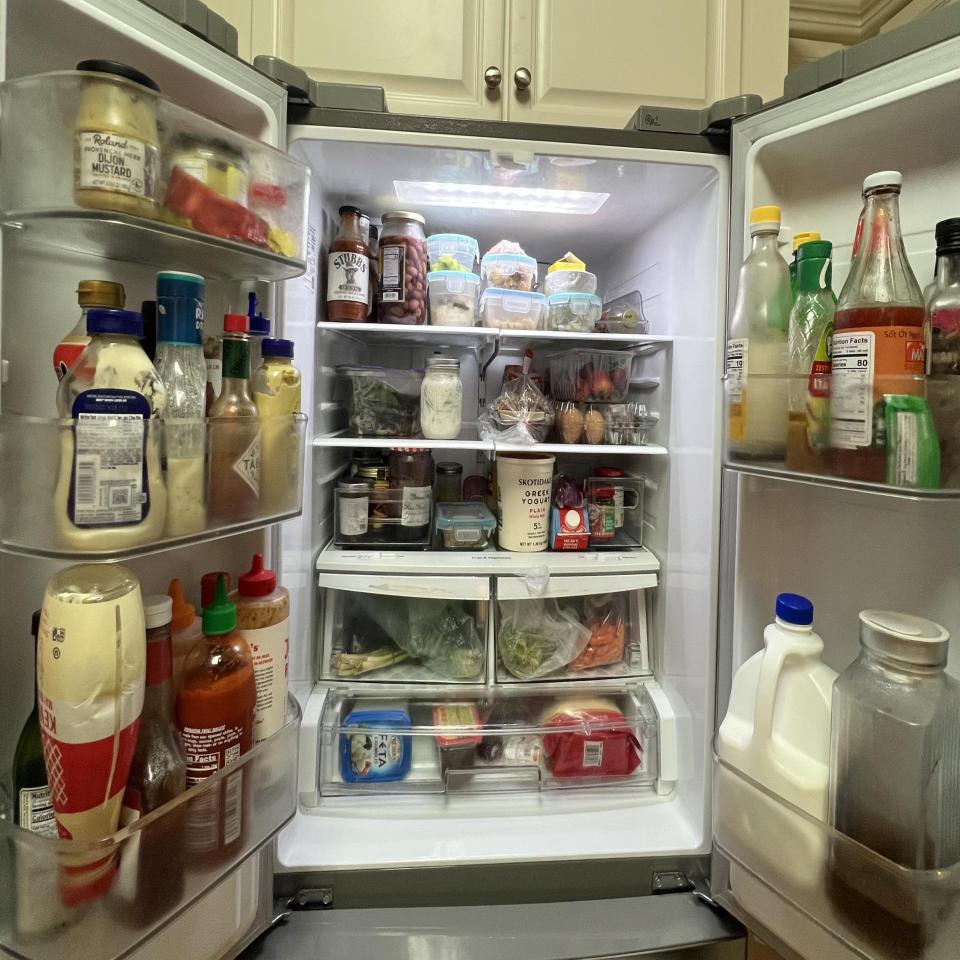Huevos: (557, 401, 607, 446)
Leche: (712, 590, 837, 879)
Queso: (541, 695, 643, 777)
Yogur: (496, 456, 554, 552)
Zanahoria: (570, 620, 626, 670)
mayonnaise: (51, 306, 168, 548)
mustard: (72, 58, 162, 222), (250, 338, 302, 517)
strawberries: (554, 352, 632, 400)
